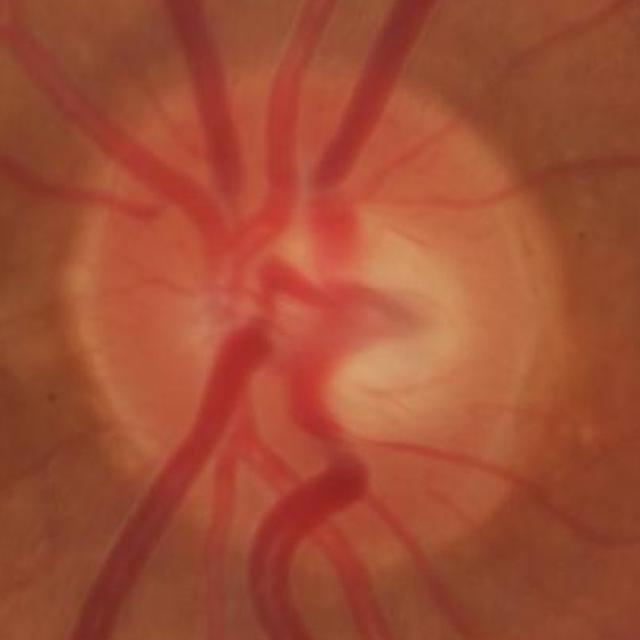OC: (218, 215, 465, 430)
OD: (75, 80, 570, 577)
